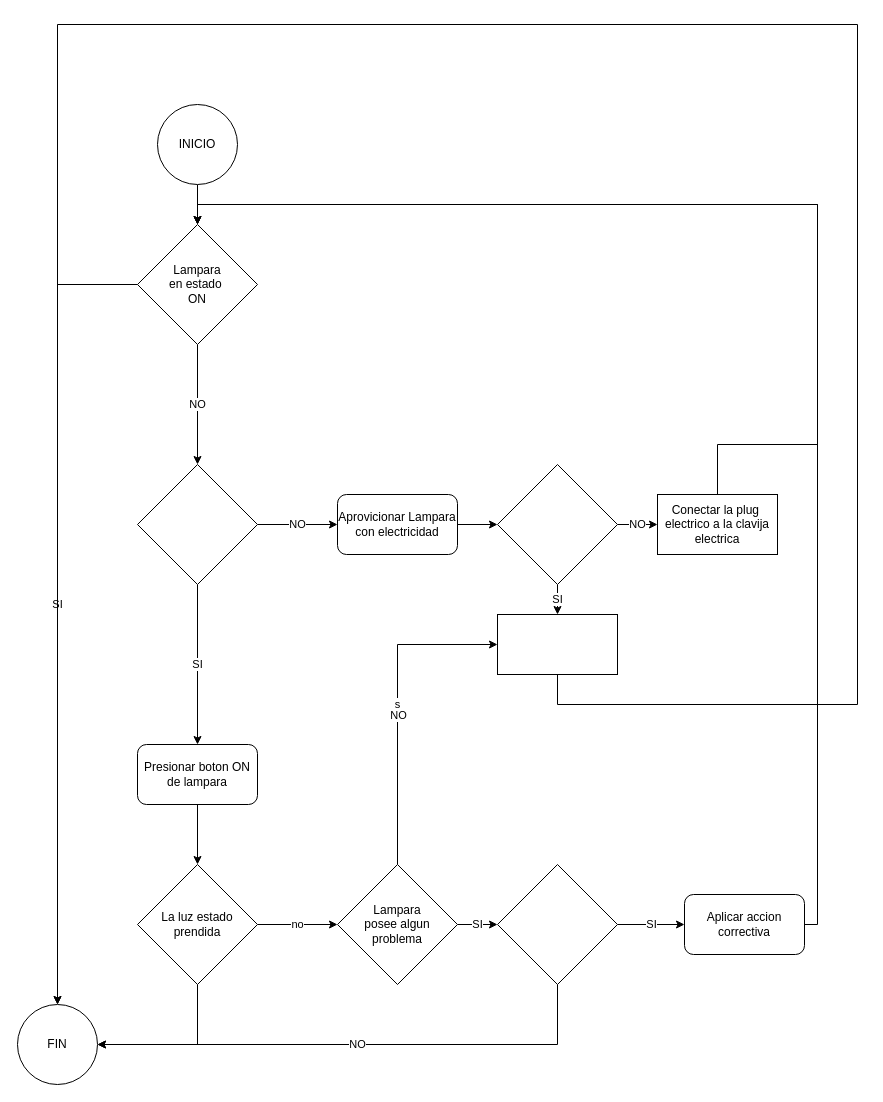
The diagram is 883 pixels wide and 1102 high, and some of its shapes have lost their labels. Each missing label, with the centre of its shape:
"Es reparable" belongs at point 557,924.
"Esta conectada a la linea Electrica" belongs at point 557,524.
"Lampara posee electricidad" belongs at point 197,524.
"Revice su instalacion electrica" belongs at point 557,644.
